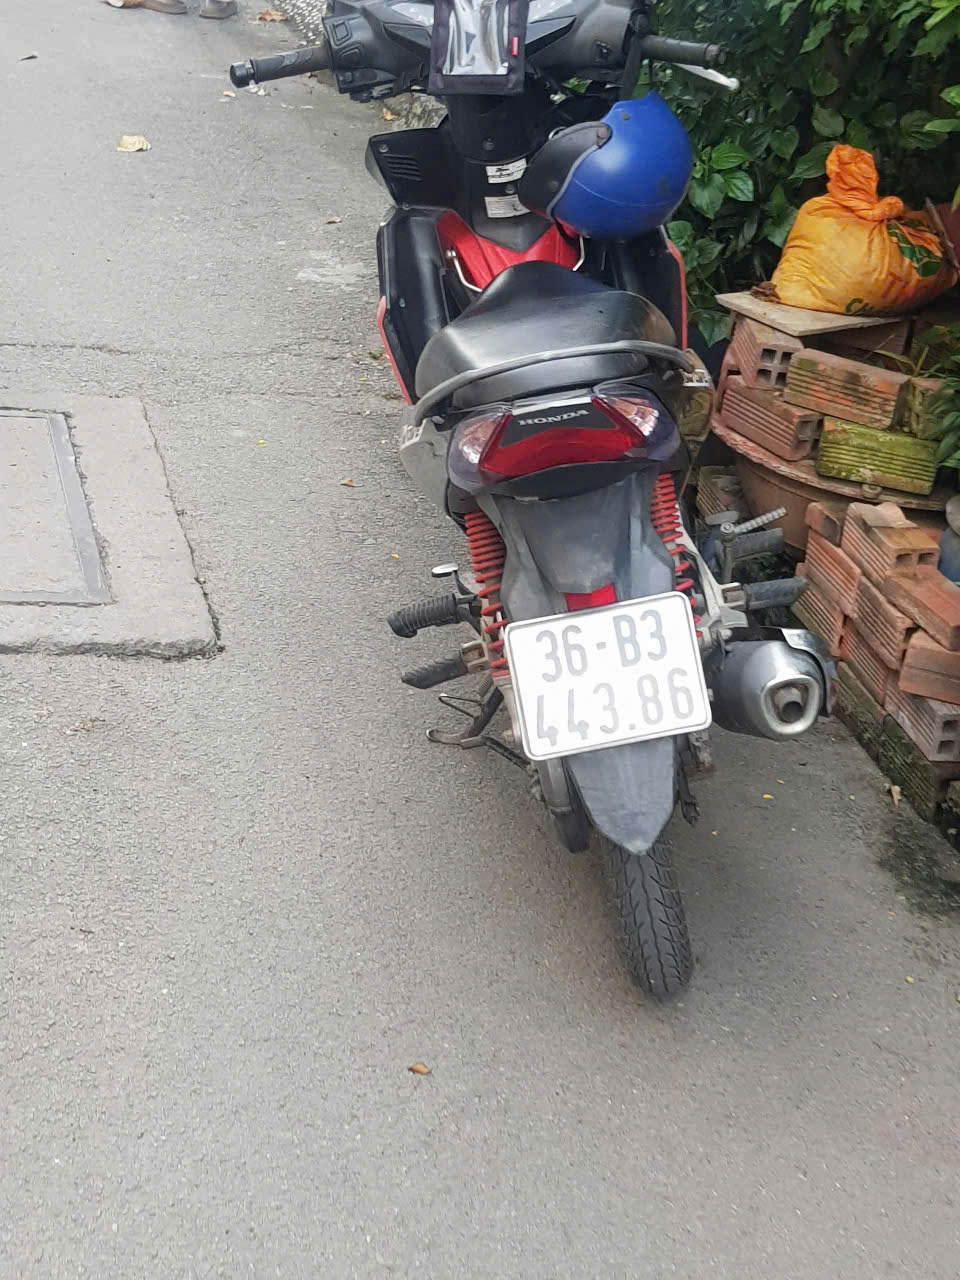bien_so: (506, 594, 713, 760)
